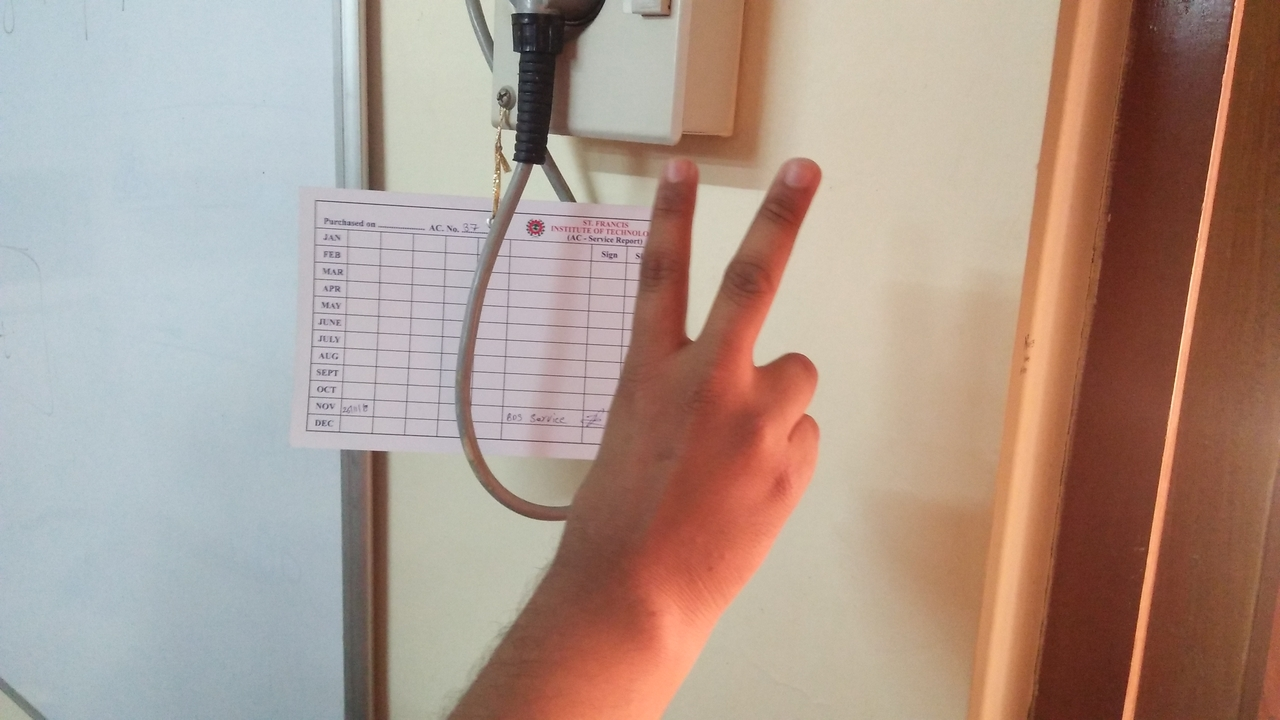fingertip: (766, 146, 830, 202), (650, 142, 706, 196)
